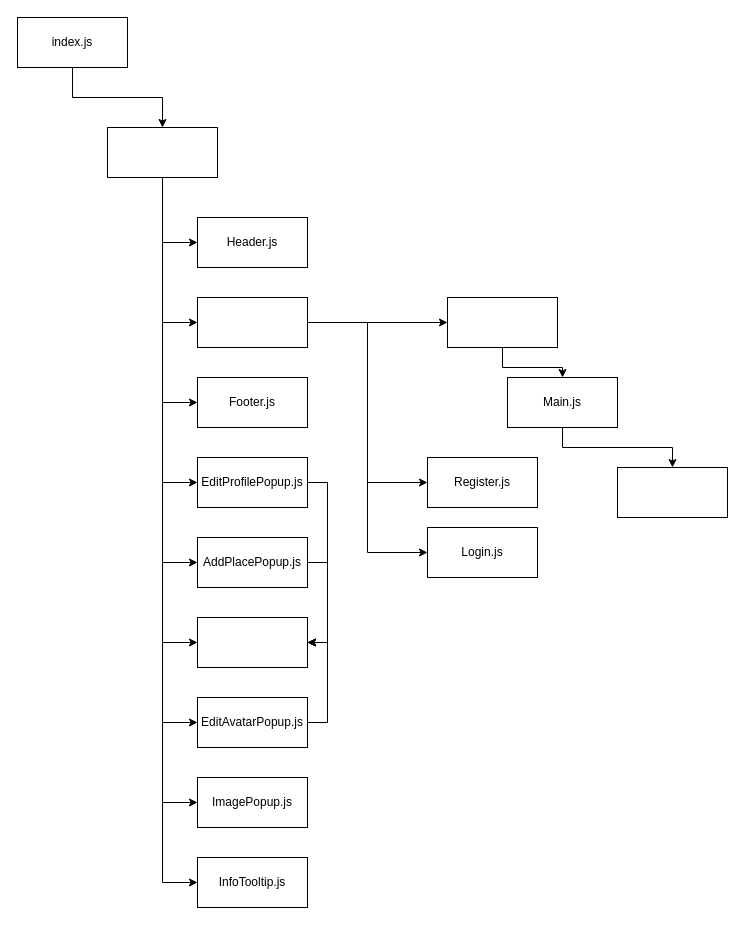
The diagram is 745 pixels wide and 925 high, and some of its shapes have lost their labels. The shapes that lost their labels are listed below. From the top down, each one's centre as x and y in pixels, then its label:
point 162,152: App .js
point 252,322: Router.js
point 502,322: ProtectedRoute.js
point 672,492: Card.js
point 252,642: PopupWithForm.js
